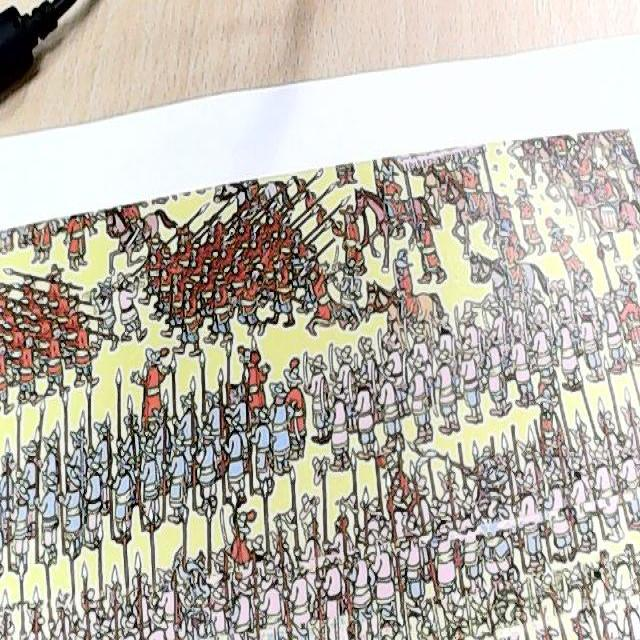waldo: (223, 382, 241, 407)
